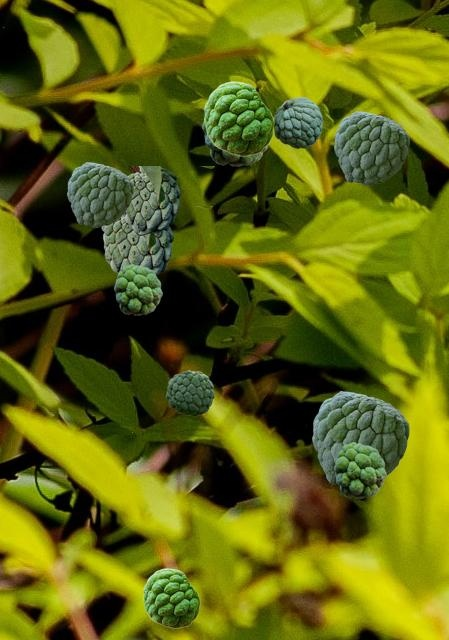atis: (312, 391, 408, 485), (101, 206, 211, 275), (123, 166, 213, 234), (334, 111, 408, 184), (204, 81, 273, 155), (67, 162, 132, 226), (143, 568, 199, 627), (202, 119, 269, 165), (334, 442, 385, 497), (114, 264, 161, 314), (274, 97, 321, 147), (166, 370, 213, 415)
